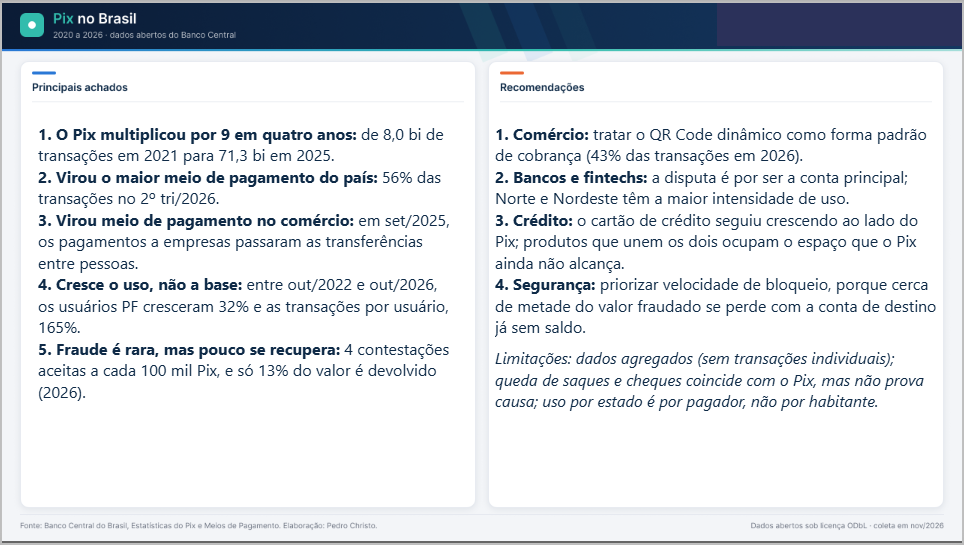

This screenshot's page, from the dashboard's own definition file:
{"tool":"powerbi","page":{"name":"Conclusões","canvas":[1920,1080],"ordinal":5},"visuals":[{"type":"textbox","box":[72.5,200,832.5,795],"z":1000},{"type":"textbox","box":[985,200,887.5,795],"z":2000},{"type":"shape","box":[1430,0,490,86],"z":3000}]}

Visuals, with their boxes in screenshot pixels (x1, y1, x2, y2), scaled from the page's 1920x1080 canvas onto the 964x545 screenshot:
textbox: BBox(36, 101, 454, 502)
textbox: BBox(495, 101, 940, 502)
shape: BBox(718, 0, 963, 43)
